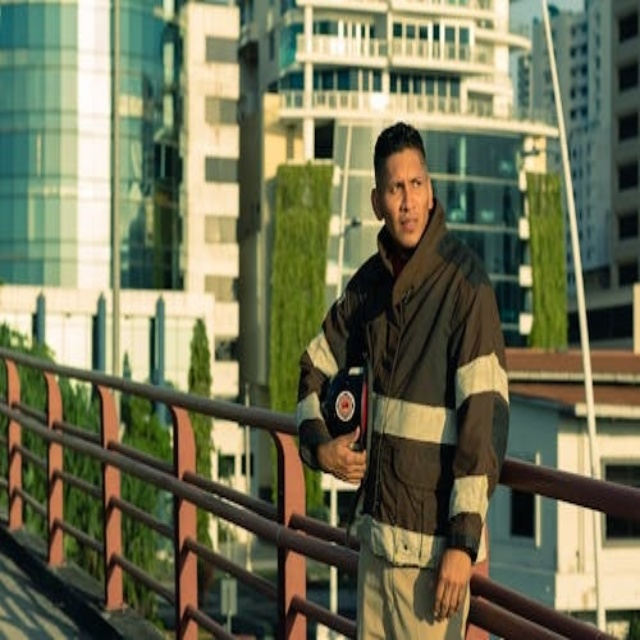Sin_gafas: (384, 167, 426, 201)
Sin_guantes: (429, 544, 471, 630), (320, 417, 367, 486)
Sin_mascara: (390, 211, 422, 241)
